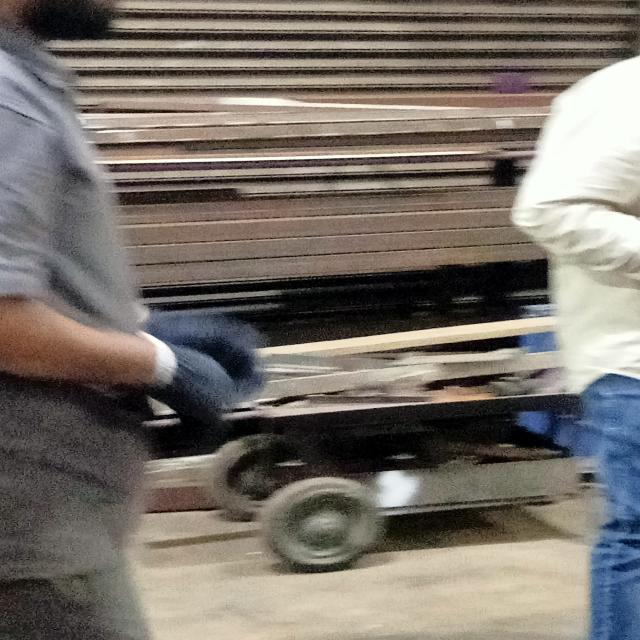Gloves-Detection: (139, 309, 282, 440)
